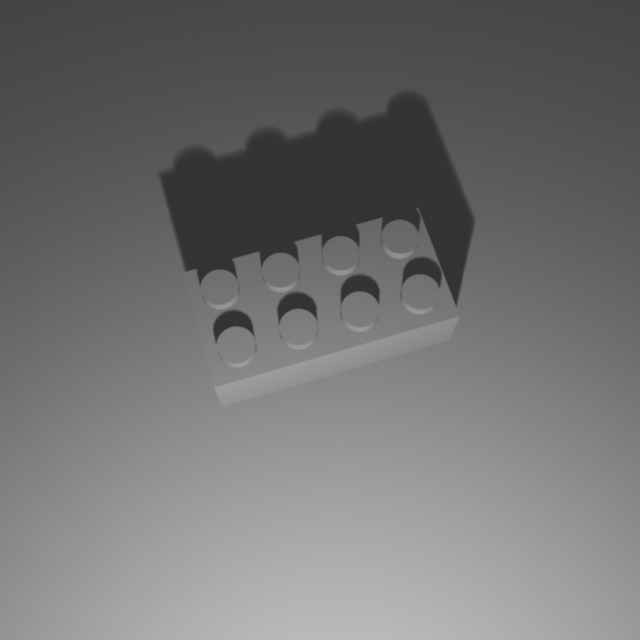lego_2x4: (181, 202, 462, 407)
